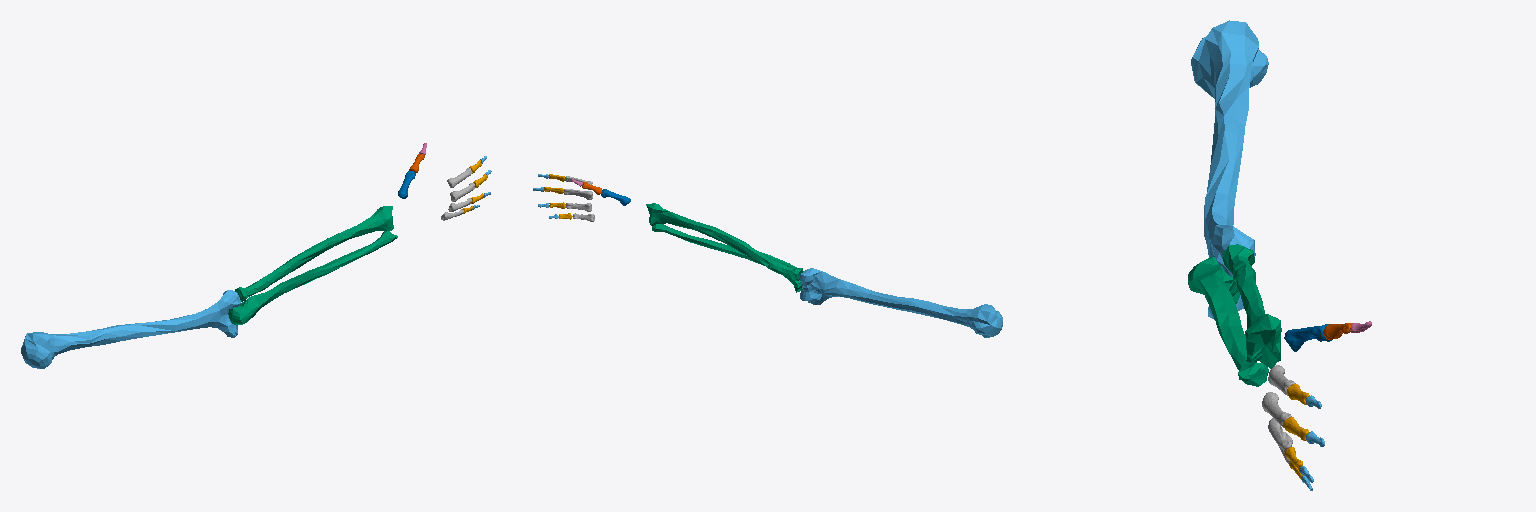
robot.urdf — skeleton:
<?xml version="1.0" ?>
<robot name="skeleton">
  <joint name="skeleton__shoulder_joint" type="revolute">
    <parent link="skeleton__skeleton"/>
    <child link="skeleton__upper_arm"/>
    <origin xyz="-0.01754 -0.17     1.793" rpy="-0.17453292519943295 0 0"/>
    <axis xyz="0 -0.17364817766693033 0.984807753012208"/>
    <limit lower="-1.5707963705062866" upper="1.5707963705062866" effort="0.0" velocity="0.0"/>
  </joint>
  <joint name="skeleton__elbow_joint" type="revolute">
    <parent link="skeleton__upper_arm"/>
    <child link="skeleton__forearm"/>
    <origin xyz="0.29099  0.0061  -0.0123" rpy="0 0 0"/>
    <axis xyz="0 0 1"/>
    <limit lower="0.0" upper="2.617993878" effort="0.0" velocity="0.0"/>
  </joint>
  <joint name="skeleton__hand_joint_1" type="fixed">
    <parent link="skeleton__forearm"/>
    <child link="skeleton__hand"/>
    <origin xyz="0.23921 0.00788 0.06428" rpy="0 0 0"/>
    <axis xyz="0 0 1"/>
    <limit lower="0.0" upper="1.5707963705062866" effort="0.0" velocity="0.0"/>
  </joint>
  <joint name="skeleton__proximal_joint" type="fixed">
    <parent link="skeleton__hand"/>
    <child link="skeleton__proximal"/>
    <origin xyz="0.0941  0.002   0.00495" rpy="0.1847  -0.15172  0.24123"/>
    <axis xyz="0 0 1"/>
    <limit lower="0.0" upper="2.0" effort="0.0" velocity="0.0"/>
  </joint>
  <joint name="skeleton__thumb_joint_01" type="fixed">
    <parent link="skeleton__hand"/>
    <child link="skeleton__thumb_1"/>
    <origin xyz="0.02952 0.01191 0.02036" rpy="-2.39208 -0.67942  0.5854"/>
    <axis xyz="0 0 1"/>
    <limit lower="-0.7853981852531433" upper="0.7853981852531433" effort="0.0" velocity="0.0"/>
  </joint>
  <joint name="skeleton__thumb_joint_12" type="fixed">
    <parent link="skeleton__thumb_1"/>
    <child link="skeleton__thumb_2"/>
    <origin xyz="0.04365 0.00098 0.00148" rpy="0.61859 -0.06067  0.08498"/>
    <axis xyz="0 0 1"/>
    <limit lower="0.0" upper="1.5707963705062866" effort="0.0" velocity="0.0"/>
  </joint>
  <joint name="skeleton__thumb_joint_23" type="fixed">
    <parent link="skeleton__thumb_2"/>
    <child link="skeleton__thumb_3"/>
    <origin xyz="0.03175  0.0012  -0.00069" rpy="0 0 0"/>
    <axis xyz="0 0 1"/>
    <limit lower="0.0" upper="1.5707963705062866" effort="0.0" velocity="0.0"/>
  </joint>
  <joint name="skeleton__middle_joint" type="fixed">
    <parent link="skeleton__proximal"/>
    <child link="skeleton__middle"/>
    <origin xyz="0.04285 0      0" rpy="0 0 0"/>
    <axis xyz="0 0 1"/>
    <limit lower="0.0" upper="1.5707963705062866" effort="0.0" velocity="0.0"/>
  </joint>
  <joint name="skeleton__distal_joint" type="fixed">
    <parent link="skeleton__middle"/>
    <child link="skeleton__distal"/>
    <origin xyz="0.02734  0.00572 -0.00241" rpy="0 0 0"/>
    <axis xyz="0 0 1"/>
    <limit lower="0.0" upper="1.5707963705062866" effort="0.0" velocity="0.0"/>
  </joint>
  <link name="skeleton__skeleton">
    <inertial>
      <mass value="1.0"/>
      <origin xyz="0 0 0" rpy="0 0 0"/>
      <inertia ixx="0.001" ixy="0" ixz="0" iyy="0.001" iyz="0" izz="0.001"/>
    </inertial>
    <collision name="skeleton__collision">
      <origin xyz="-0.02371 -0.00647  1.74557" rpy="-0.0049  0      0"/>
      <geometry>
        <mesh filename="package://meshes/skeleton.dae" scale="1.0 1.0 1.0"/>
      </geometry>
    </collision>
    <visual name="skeleton__visual">
      <origin xyz="-0.02371 -0.00647  1.74557" rpy="-0.0049  0      0"/>
      <geometry>
        <mesh filename="package://meshes/skeleton.dae" scale="1.0 1.0 1.0"/>
      </geometry>
    </visual>
  </link>
  <link name="skeleton__upper_arm">
    <inertial>
      <mass value="2.4375"/>
      <origin xyz="0 0 0" rpy="0 0 0"/>
      <inertia ixx="0.00243" ixy="0" ixz="0" iyy="0.00243" iyz="0" izz="0.00243"/>
    </inertial>
    <collision name="skeleton__collision">
      <origin xyz="0.13823  0.00026 -0.00341" rpy="0      0      1.57079"/>
      <geometry>
        <mesh filename="package://meshes/upper_arm.obj" scale="1.0 1.0 1.0"/>
      </geometry>
    </collision>
    <visual name="skeleton__visual">
      <origin xyz="0.13823  0.00026 -0.00341" rpy="0      0      1.57079"/>
      <geometry>
        <mesh filename="package://meshes/upper_arm.obj" scale="1.0 1.0 1.0"/>
      </geometry>
    </visual>
  </link>
  <link name="skeleton__forearm">
    <inertial>
      <mass value="1.89"/>
      <origin xyz="0 0 0" rpy="0 0 0"/>
      <inertia ixx="0.00189" ixy="0" ixz="0" iyy="0.00189" iyz="0" izz="0.00189"/>
    </inertial>
    <collision name="skeleton__collision">
      <origin xyz="0.11655 -0.0037   0.03579" rpy="0      0      1.57079"/>
      <geometry>
        <mesh filename="package://meshes/forearm.obj" scale="1.0 1.0 1.0"/>
      </geometry>
    </collision>
    <visual name="skeleton__visual">
      <origin xyz="0.11655 -0.0037   0.03579" rpy="0      0      1.57079"/>
      <geometry>
        <mesh filename="package://meshes/forearm.obj" scale="1.0 1.0 1.0"/>
      </geometry>
    </visual>
  </link>
  <link name="skeleton__hand">
    <inertial>
      <mass value="0.001"/>
      <origin xyz="0 0 0" rpy="0 0 0"/>
      <inertia ixx="0.000001" ixy="0" ixz="0" iyy="0.000001" iyz="0" izz="0.000001"/>
    </inertial>
    <collision name="skeleton__collision">
      <origin xyz="0.04303 0.00372 0.00215" rpy="0      0      1.57079"/>
      <geometry>
        <mesh filename="package://meshes/hand_col.dae" scale="1.0 1.0 1.0"/>
      </geometry>
    </collision>
    <visual name="skeleton__visual">
      <origin xyz="0.04303 0.00372 0.00215" rpy="0      0      1.57079"/>
      <geometry>
        <mesh filename="package://meshes/hand.obj" scale="1.0 1.0 1.0"/>
      </geometry>
    </visual>
  </link>
  <link name="skeleton__thumb_1">
    <inertial>
      <mass value="0.001"/>
      <origin xyz="0 0 0" rpy="0 0 0"/>
      <inertia ixx="0.000001" ixy="0" ixz="0" iyy="0.000001" iyz="0" izz="0.000001"/>
    </inertial>
    <visual name="skeleton__visual">
      <origin xyz="0.0254  -0.00053 -0.00079" rpy="-3.1294  -0.96488 -0.71552"/>
      <geometry>
        <mesh filename="package://meshes/thumb_1.obj" scale="1.0 1.0 1.0"/>
      </geometry>
    </visual>
  </link>
  <link name="skeleton__thumb_2">
    <inertial>
      <mass value="0.001"/>
      <origin xyz="0 0 0" rpy="0 0 0"/>
      <inertia ixx="0.000001" ixy="0" ixz="0" iyy="0.000001" iyz="0" izz="0.000001"/>
    </inertial>
    <visual name="skeleton__visual">
      <origin xyz="0.01794  0.00023 -0.00055" rpy="1.91061 -1.08836  0.28141"/>
      <geometry>
        <mesh filename="package://meshes/thumb_2.obj" scale="1.0 1.0 1.0"/>
      </geometry>
    </visual>
  </link>
  <link name="skeleton__thumb_3">
    <inertial>
      <mass value="0.001"/>
      <origin xyz="0 0 0" rpy="0 0 0"/>
      <inertia ixx="0.000001" ixy="0" ixz="0" iyy="0.000001" iyz="0" izz="0.000001"/>
    </inertial>
    <visual name="skeleton__visual">
      <origin xyz="0.00932 -0.00015  0.00029" rpy="1.91527 -1.09474  0.23923"/>
      <geometry>
        <mesh filename="package://meshes/thumb_3.obj" scale="1.0 1.0 1.0"/>
      </geometry>
    </visual>
  </link>
  <link name="skeleton__proximal">
    <inertial>
      <mass value="0.001"/>
      <origin xyz="0 0 0" rpy="0 0 0"/>
      <inertia ixx="0.000001" ixy="0" ixz="0" iyy="0.000001" iyz="0" izz="0.000001"/>
    </inertial>
    <collision name="skeleton__collision">
      <origin xyz="0.01919 0.0022  0.00295" rpy="0.09206 0.2203  1.27627"/>
      <geometry>
        <mesh filename="package://meshes/proximal_col.dae" scale="1.0 1.0 1.0"/>
      </geometry>
    </collision>
    <visual name="skeleton__visual">
      <origin xyz="0.01919 0.0022  0.00295" rpy="0.09206 0.2203  1.27627"/>
      <geometry>
        <mesh filename="package://meshes/proximal.obj" scale="1.0 1.0 1.0"/>
      </geometry>
    </visual>
  </link>
  <link name="skeleton__middle">
    <inertial>
      <mass value="0.001"/>
      <origin xyz="0 0 0" rpy="0 0 0"/>
      <inertia ixx="0.000001" ixy="0" ixz="0" iyy="0.000001" iyz="0" izz="0.000001"/>
    </inertial>
    <collision name="skeleton__collision">
      <origin xyz="0.00925  0.00417 -0.0002" rpy="0.13008 0.20044 1.45783"/>
      <geometry>
        <mesh filename="package://meshes/middle_col.dae" scale="1.0 1.0 1.0"/>
      </geometry>
    </collision>
    <visual name="skeleton__visual">
      <origin xyz="0.00925  0.00417 -0.0002" rpy="0.13008 0.20044 1.45783"/>
      <geometry>
        <mesh filename="package://meshes/middle.obj" scale="1.0 1.0 1.0"/>
      </geometry>
    </visual>
  </link>
  <link name="skeleton__distal">
    <inertial>
      <mass value="0.001"/>
      <origin xyz="0 0 0" rpy="0 0 0"/>
      <inertia ixx="0.000001" ixy="0" ixz="0" iyy="0.000001" iyz="0" izz="0.000001"/>
    </inertial>
    <collision name="skeleton__collision">
      <origin xyz="0.00163 0.00281 0.00012" rpy="0.1341  0.1978  1.47817"/>
      <geometry>
        <mesh filename="package://meshes/distal.obj" scale="1.0 1.0 1.0"/>
      </geometry>
    </collision>
    <visual name="skeleton__visual">
      <origin xyz="0.00163 0.00281 0.00012" rpy="0.1341  0.1978  1.47817"/>
      <geometry>
        <mesh filename="package://meshes/distal.obj" scale="1.0 1.0 1.0"/>
      </geometry>
    </visual>
  </link>
</robot>

--- Render facts (derived) ---
Views: 3 orthographic renders of the robot side by side, from view 1: azimuth 30°, elevation 25°; view 2: azimuth 150°, elevation 25°; view 3: azimuth 270°, elevation 25°.
Model skeleton with 10 links and 9 joints (2 revolute, 7 fixed), rooted at skeleton__skeleton, posed all joints at 0.
Links seen in each view (by area): view 1: skeleton__upper_arm, skeleton__forearm, skeleton__proximal; view 2: skeleton__upper_arm, skeleton__forearm, skeleton__proximal; view 3: skeleton__upper_arm, skeleton__forearm, skeleton__proximal, skeleton__middle, skeleton__thumb_1.
Boxes of the visible links, x1,y1,x2,y2 form: skeleton__upper_arm: (21,290,240,368); skeleton__forearm: (228,206,397,325); skeleton__proximal: (441,168,474,220); skeleton__upper_arm: (799,268,1002,337); skeleton__forearm: (646,203,803,292); skeleton__proximal: (564,176,594,221); skeleton__upper_arm: (1191,20,1268,319); skeleton__forearm: (1188,244,1281,386); skeleton__proximal: (1262,365,1295,463); skeleton__middle: (1283,384,1309,478); skeleton__thumb_1: (1284,324,1332,351).
Bounding box of the posed robot: 0.7302 × 0.1152 × 0.1571 m (x, y, z).
8 mesh visuals loaded from 10 distinct referenced files (8 OBJ); not drawn: 2 (reference not matched to a file when rendering).
